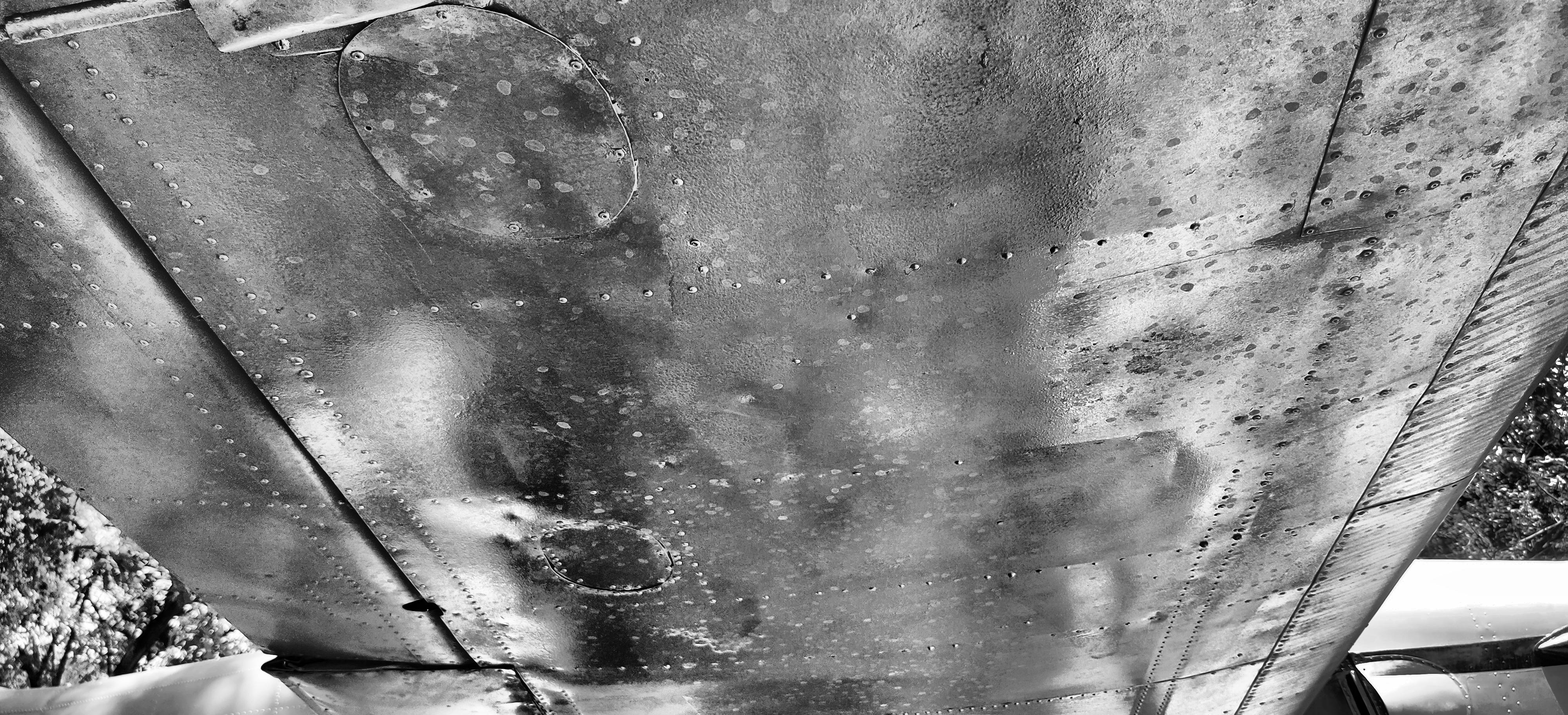dent: (544, 687, 572, 708), (1169, 447, 1185, 478), (1145, 608, 1170, 626), (493, 532, 520, 548), (501, 510, 526, 524)
missing-head: (363, 123, 375, 133), (1234, 416, 1245, 421), (1237, 214, 1246, 220)
